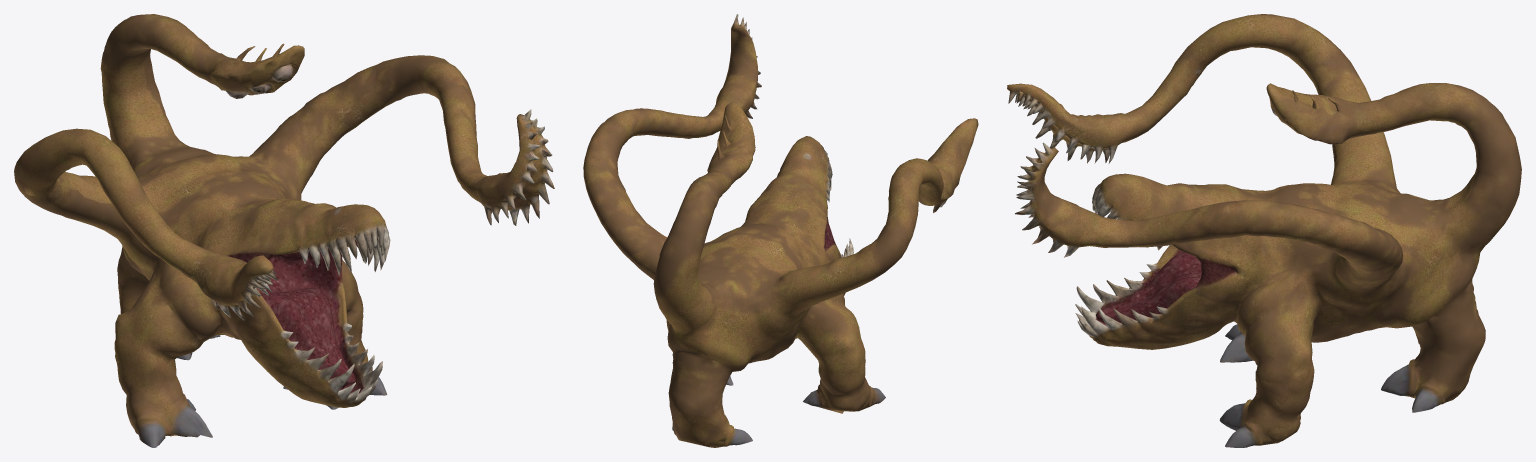
File: MZ4250 - Otyugh.glb
3 renders of one model, left to right at view 1: azimuth 30°, elevation 25°; view 2: azimuth 150°, elevation 25°; view 3: azimuth 270°, elevation 25°, orthographic. The views are drawn at different scales.
Visible parts, largest first — view 1: default; view 2: default; view 3: default.
Part boxes in pixels (x1,y1,x2,y2): default: (14, 14, 554, 447); default: (583, 14, 978, 447); default: (1007, 14, 1521, 447).
Bounding box in the file's own units: 1.23 × 0.9963 × 1.4.
Materials: 1 (1 with a texture image).
